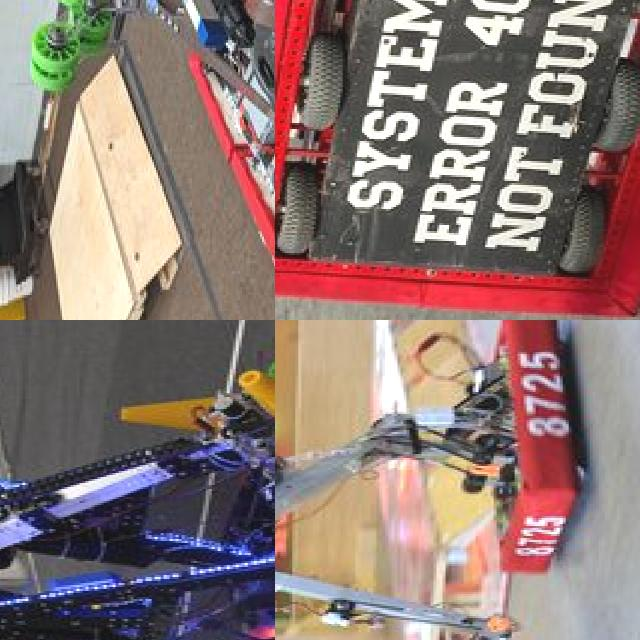FRC-Robots: (275, 0, 640, 320), (275, 320, 600, 640), (0, 0, 275, 320), (0, 320, 275, 640)
